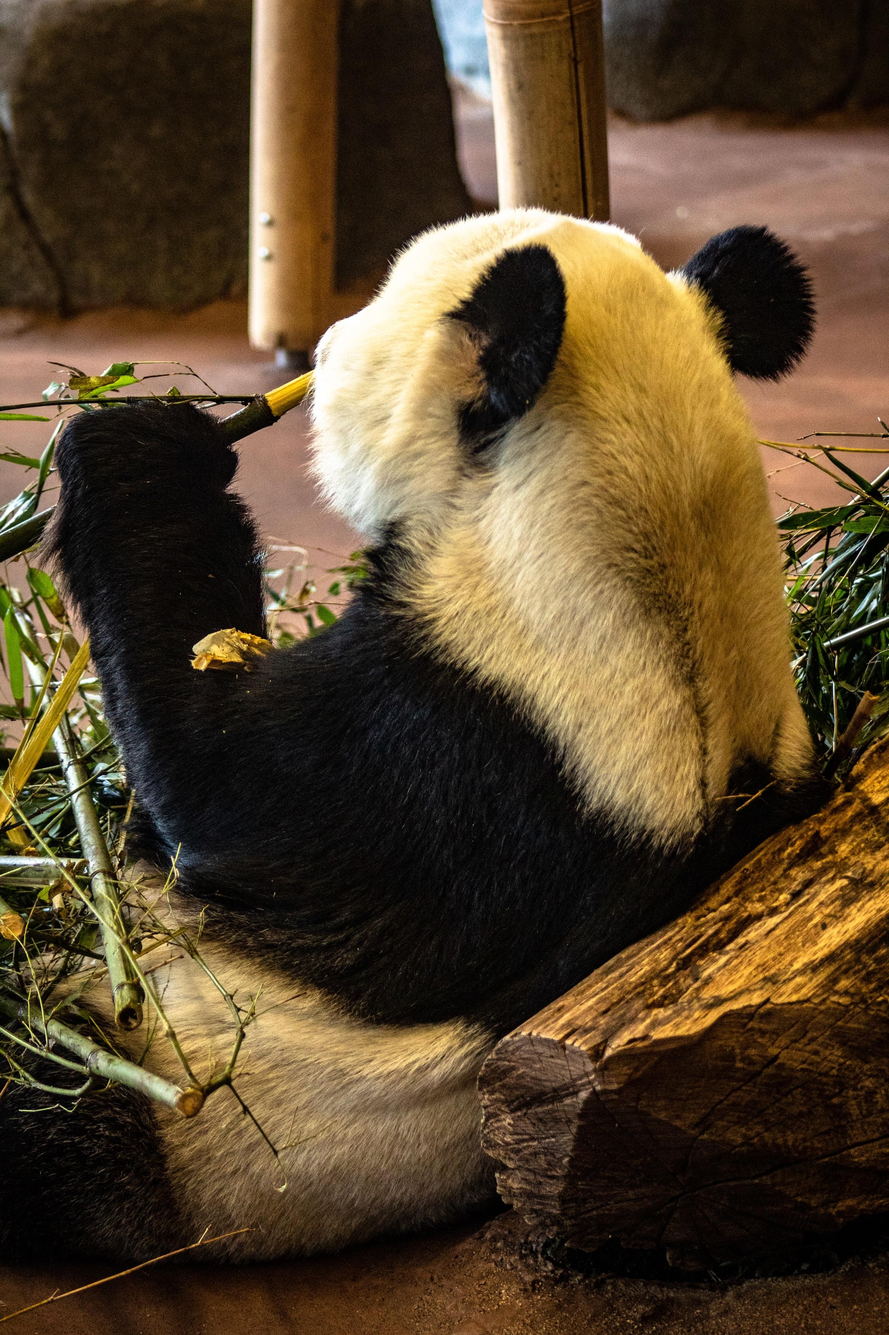panda: (0, 211, 832, 1249)
